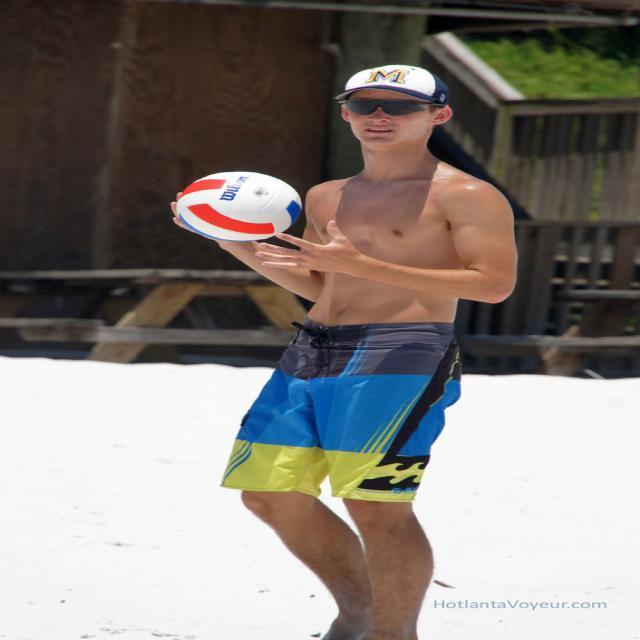football: (171, 158, 304, 272)
